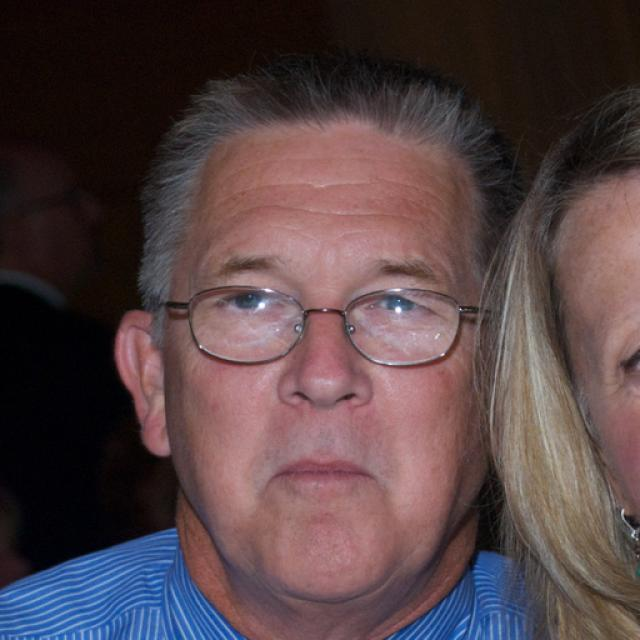happy: (164, 110, 488, 604)
